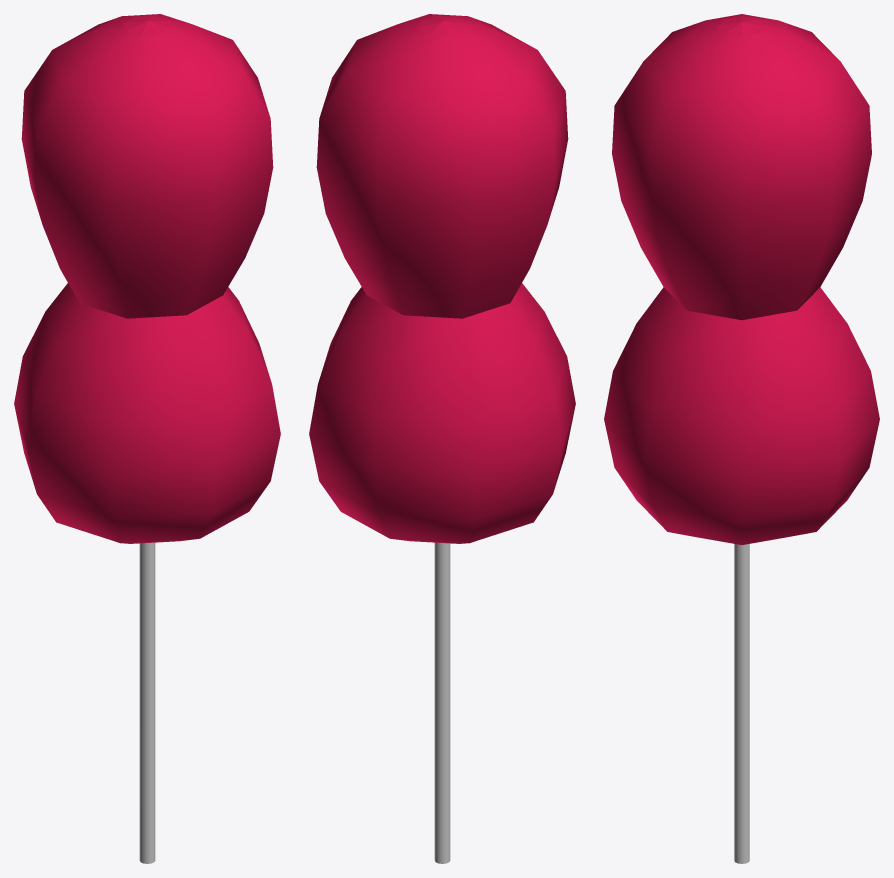
File: 3D_CottonCandy.FBX
The picture shows the model from 3 angles, left to right: view 1: azimuth 30°, elevation 25°; view 2: azimuth 150°, elevation 25°; view 3: azimuth 270°, elevation 25°; orthographic projection.
Parts seen in each view (by area): view 1: 3D_CottonCandy; view 2: 3D_CottonCandy; view 3: 3D_CottonCandy.
Part boxes in pixels (x1,y1,x2,y2): 3D_CottonCandy: (14,14,280,863); 3D_CottonCandy: (309,14,575,863); 3D_CottonCandy: (604,14,879,863).
Size of the model in its own units: 68.57 by 230 by 68.57.
